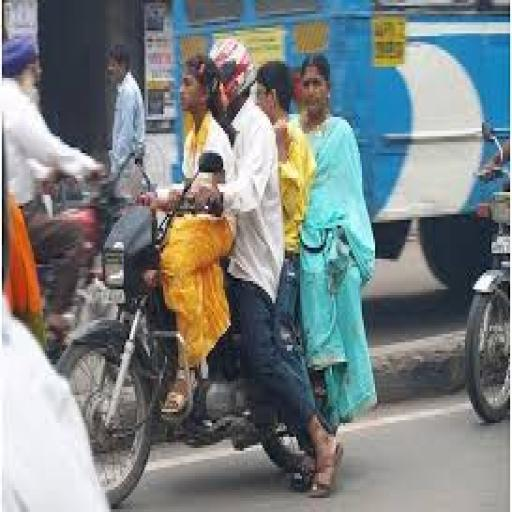helmet: (202, 33, 257, 106)
overloading: (52, 181, 322, 504)
